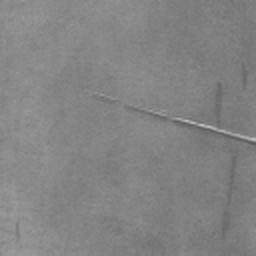Finishing roll printing: (172, 115, 256, 145), (92, 92, 168, 120)
